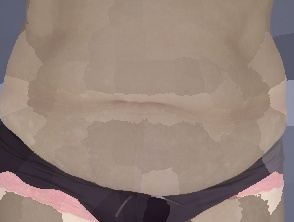vitiligo: (0, 87, 292, 212)
